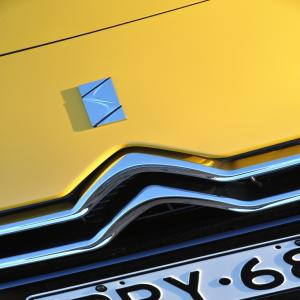Vehicle-registration-plate: (68, 239, 293, 300)
